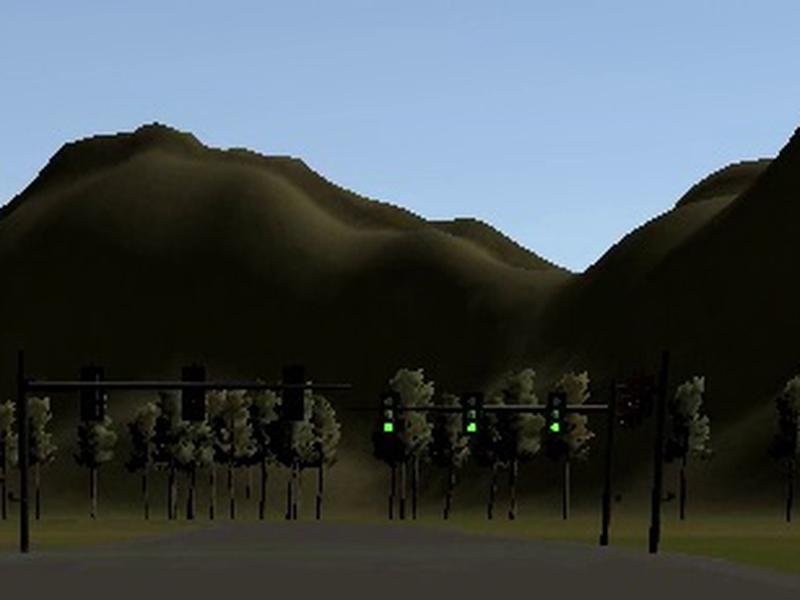Green: (463, 392, 483, 436), (379, 392, 398, 435), (548, 392, 566, 436)
